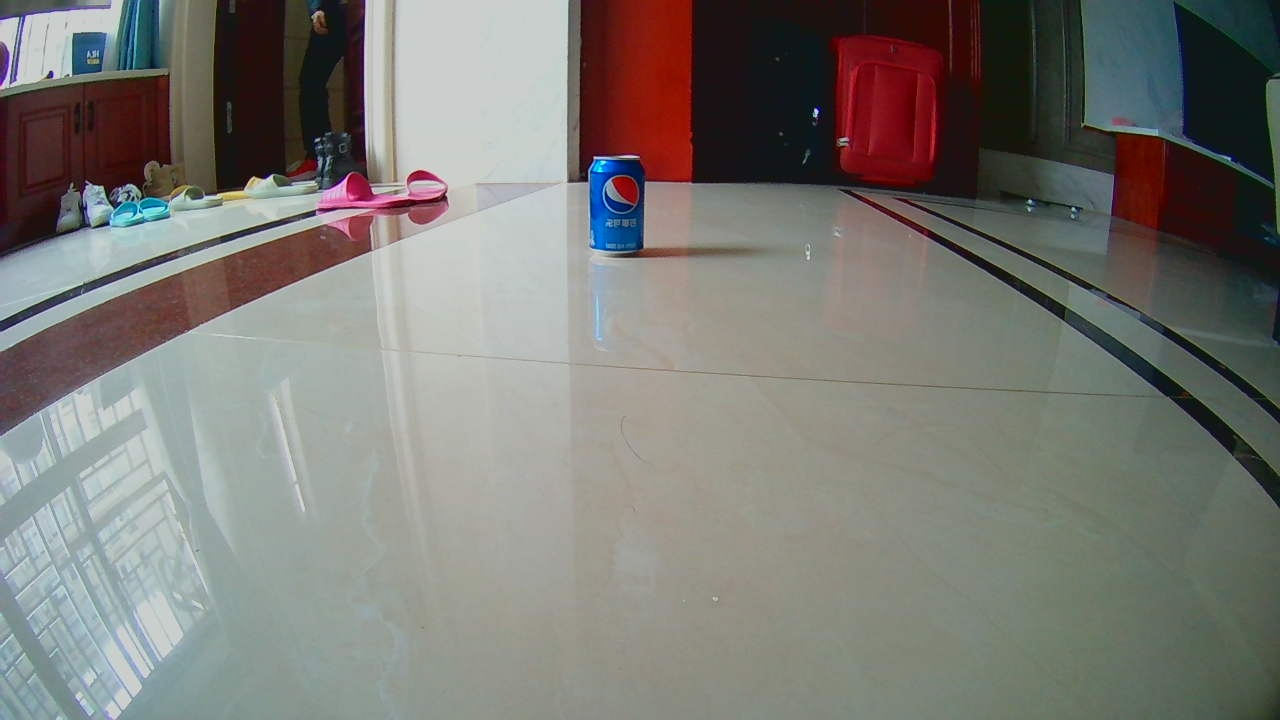pessi: (591, 156, 640, 256)
